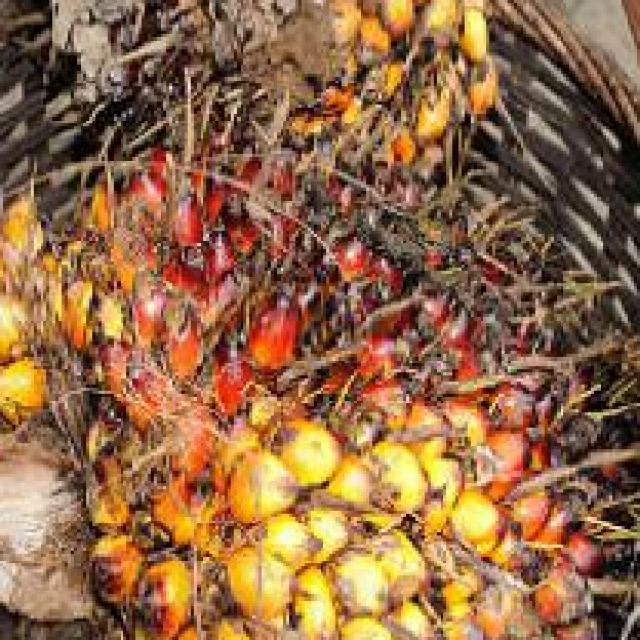overripe: (89, 289, 566, 640)
